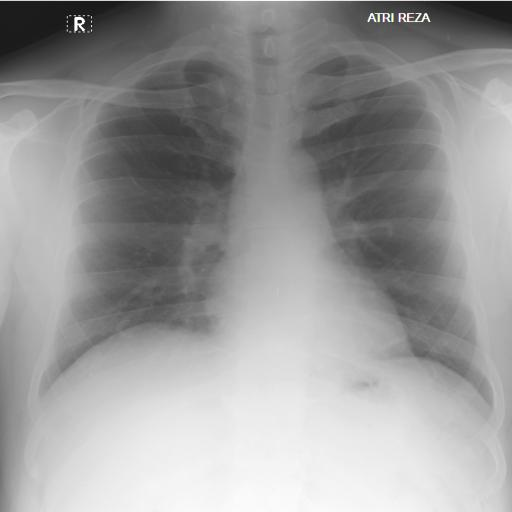normal: (13, 24, 501, 420)
